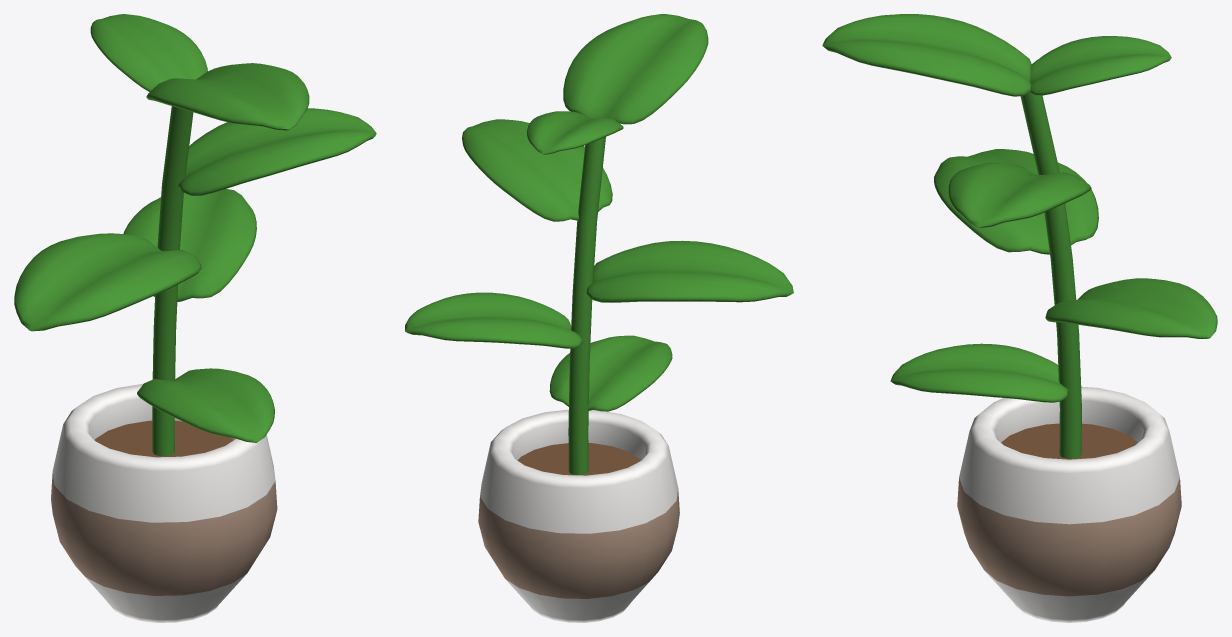
Rendered from Vase_5.glb.
3 renders of one model, left to right at view 1: azimuth 30°, elevation 25°; view 2: azimuth 150°, elevation 25°; view 3: azimuth 270°, elevation 25°, orthographic. The views are drawn at different scales.
Visible parts, largest first — view 1: Plant_17; view 2: Plant_17; view 3: Plant_17.
Part boxes in pixels (box(x1,y1,x2,y2)): Plant_17: box(14, 14, 376, 622); Plant_17: box(405, 14, 793, 622); Plant_17: box(822, 14, 1217, 622).
Bounding box in the file's own units: 1.16 × 1.79 × 1.13.
1 material, 1 textured.
